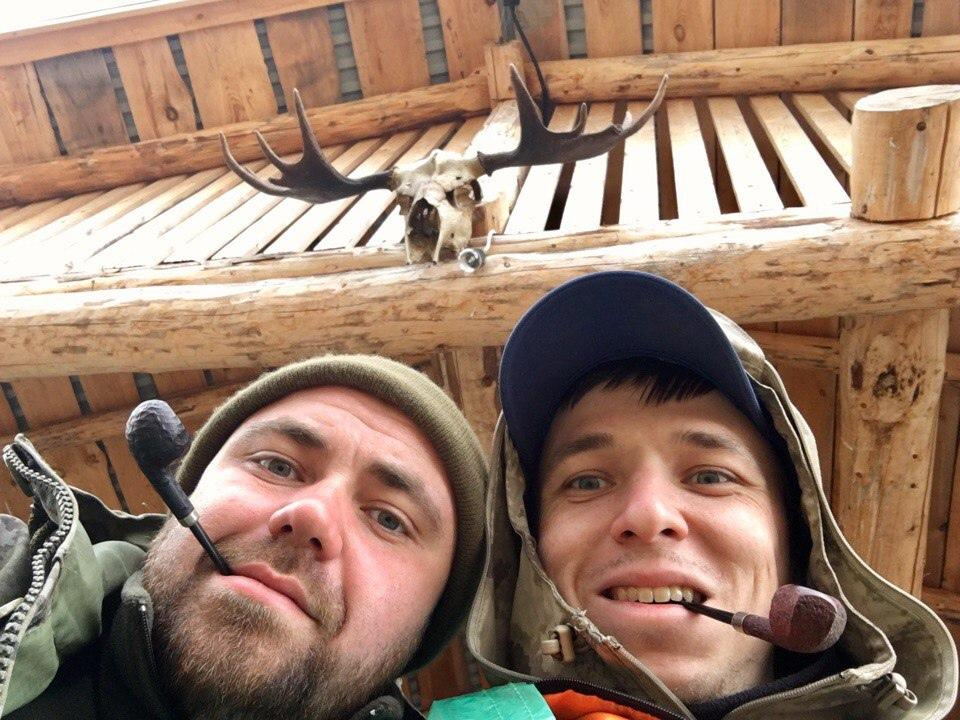trubka: (125, 399, 231, 574), (683, 584, 846, 654)
